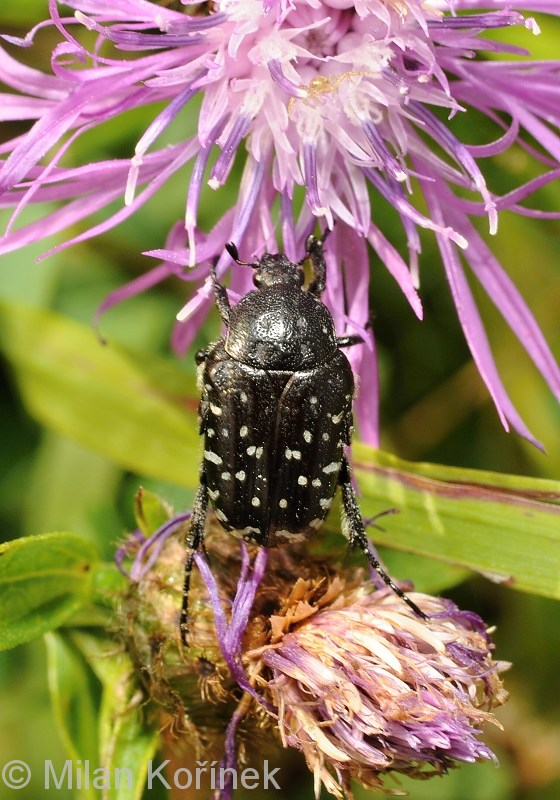Oxythyrea_funesta: (172, 219, 435, 645)
